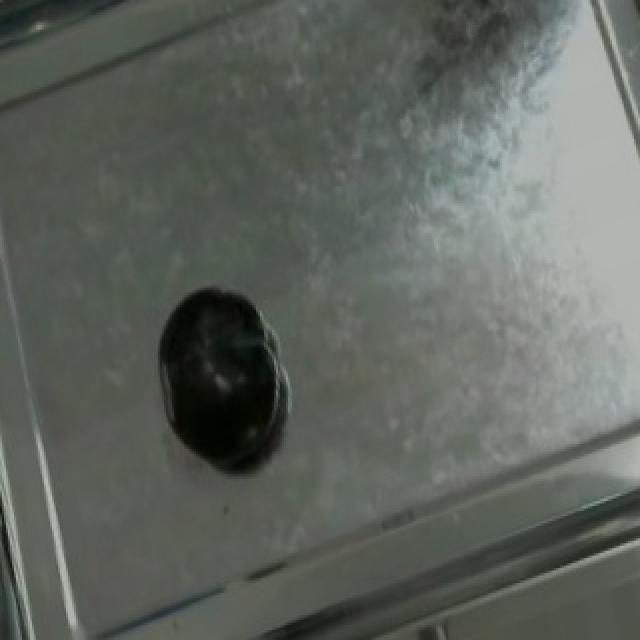Fruit: (142, 273, 292, 484)
